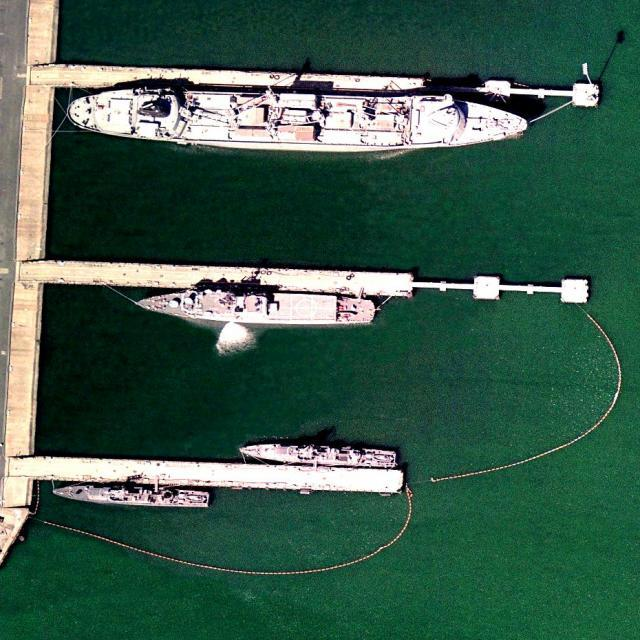Cargo: (65, 78, 529, 160)
Dock: (43, 257, 588, 304), (56, 63, 599, 106), (30, 454, 403, 493)
Other Warship: (130, 287, 376, 328), (237, 440, 396, 469), (52, 482, 211, 507)
